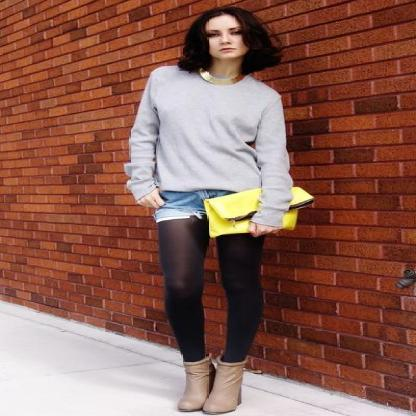bag: (206, 187, 320, 236)
jacket: (124, 65, 292, 224)
shoe: (176, 353, 249, 415)
shorts: (155, 188, 236, 222)
